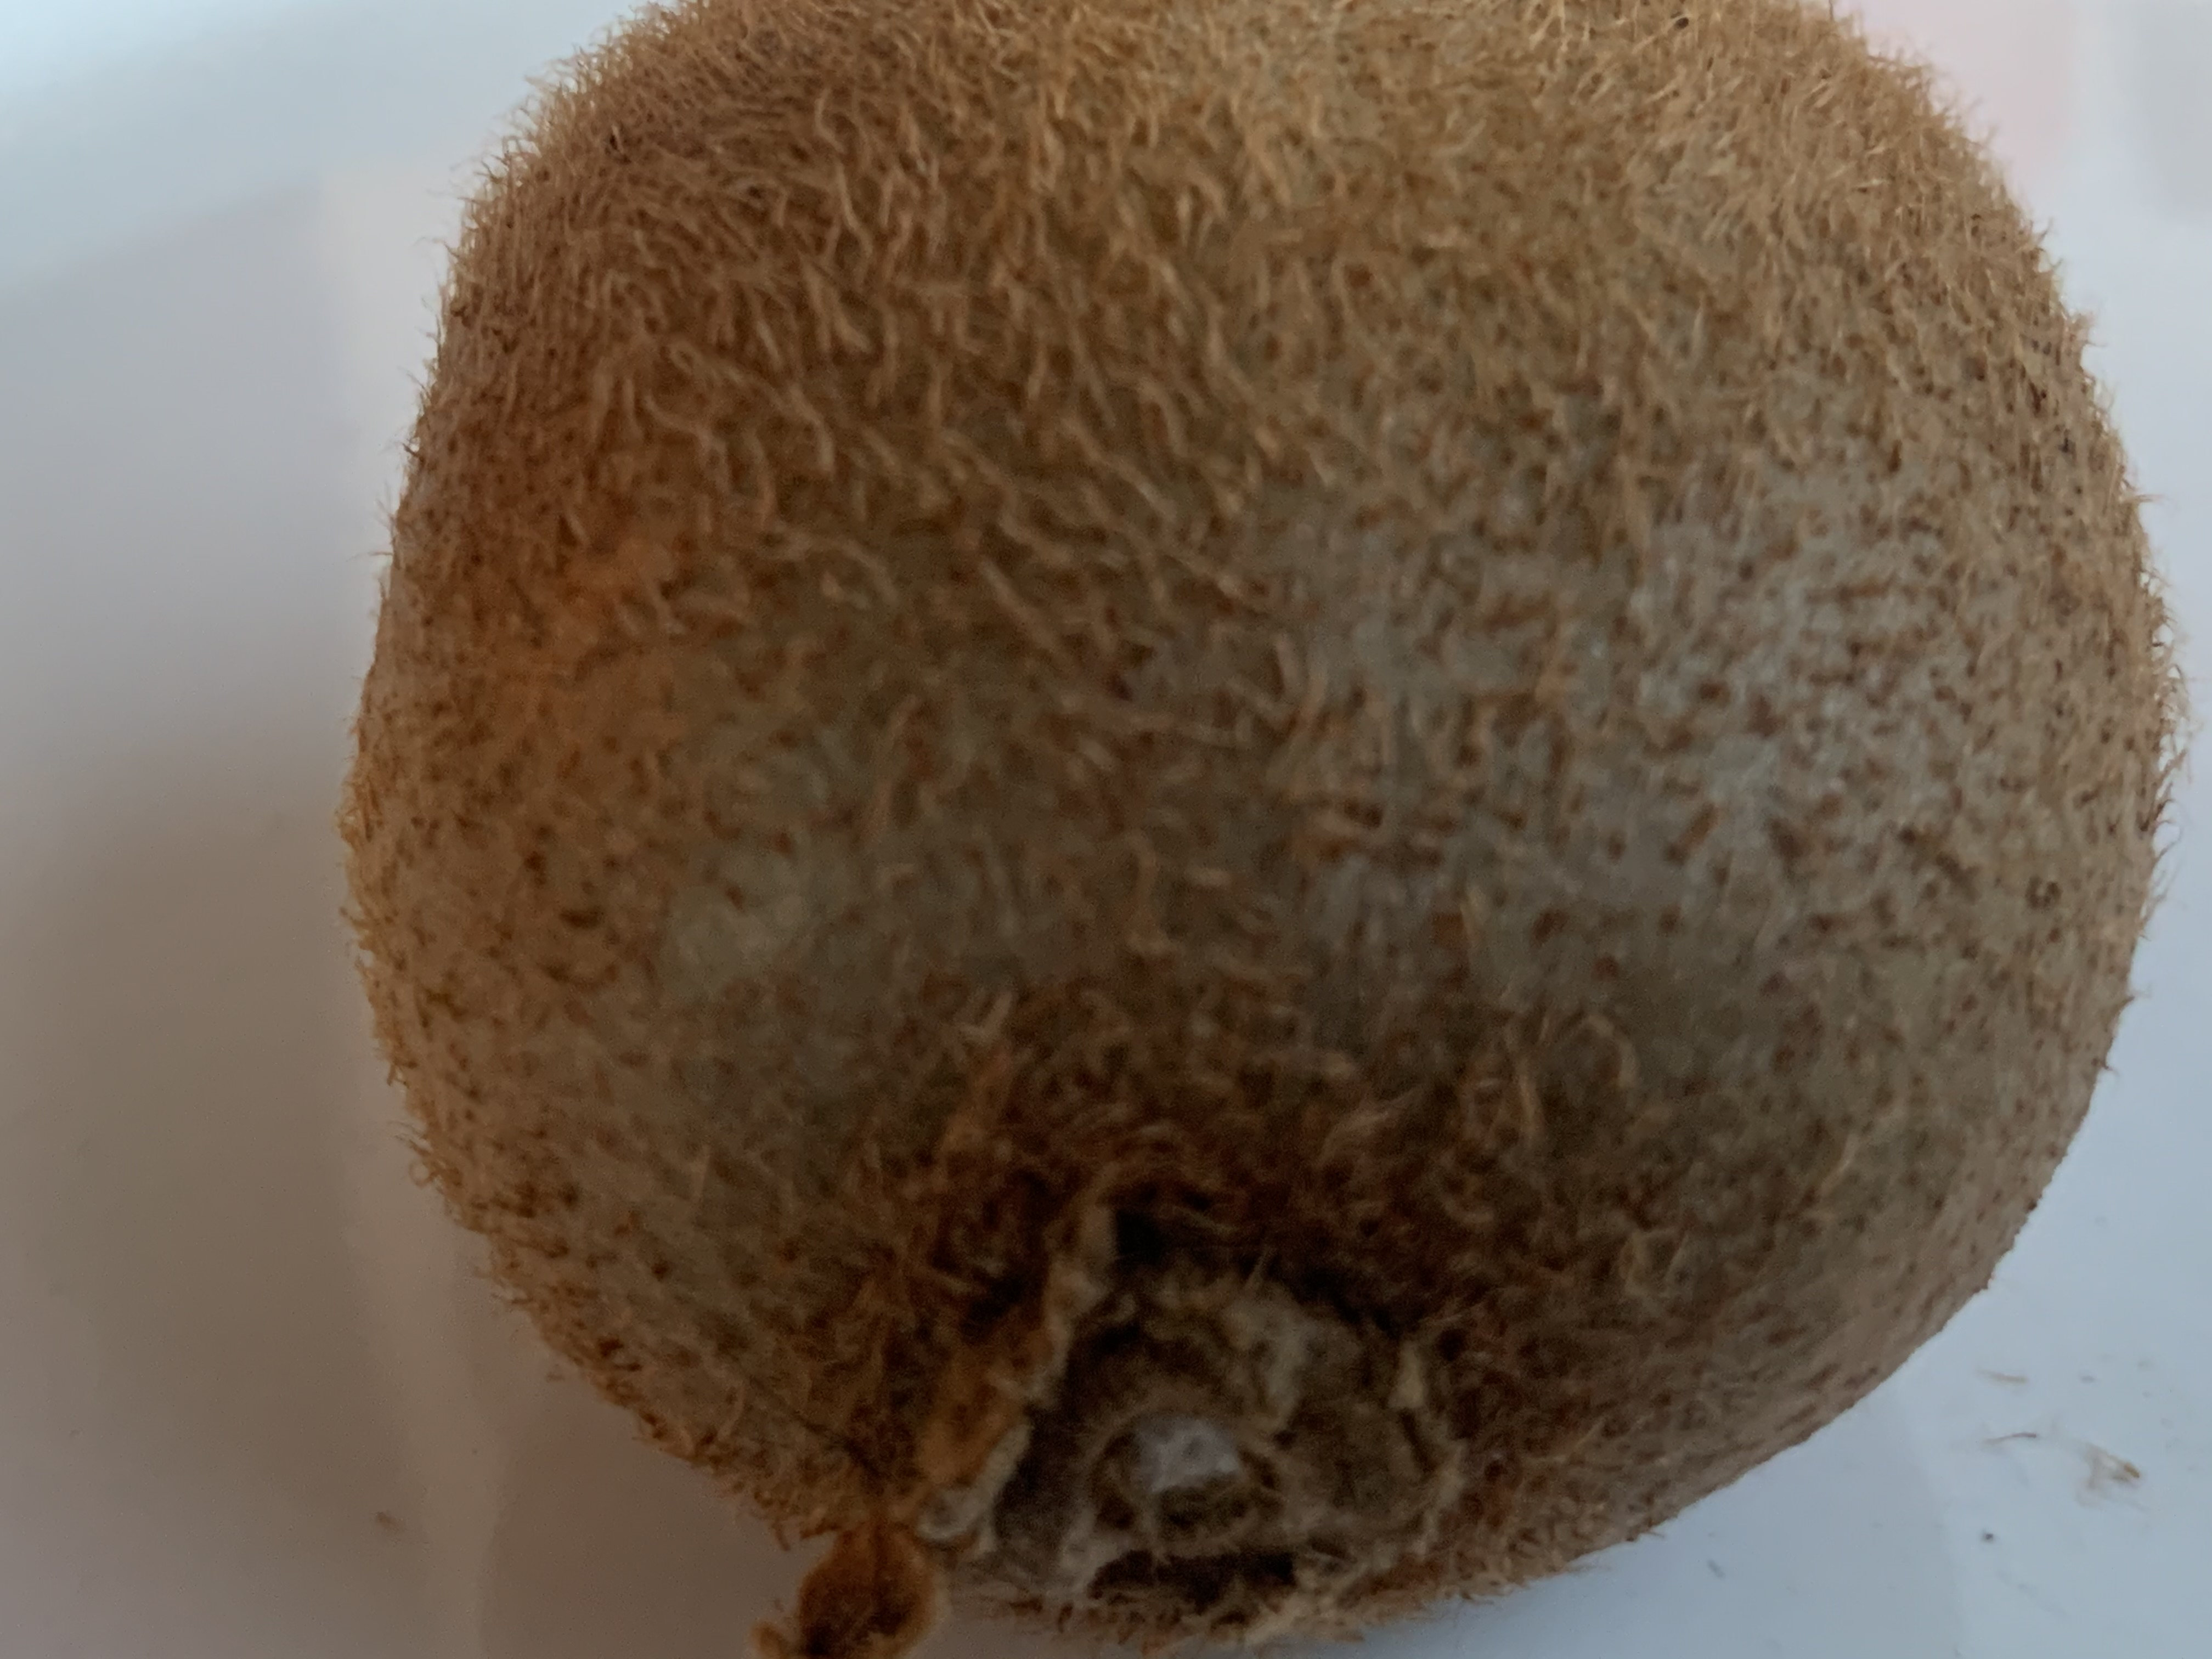kiwi: (357, 14, 2186, 1659)
